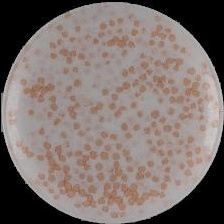54868-5795: (0, 0, 224, 224)
